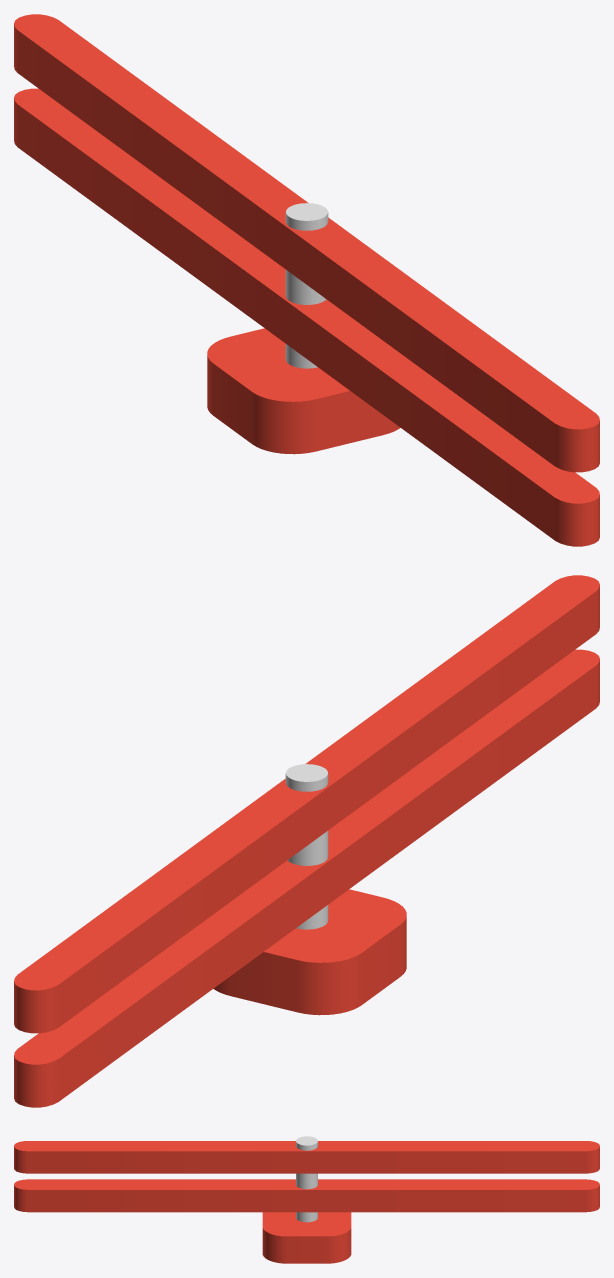
File: Spinner Big.fbx
3 views of the same model, one above another, from view 1: azimuth 30°, elevation 25°; view 2: azimuth 150°, elevation 25°; view 3: azimuth 270°, elevation 25° (orthographic). The views are drawn at different scales.
Parts seen in each view (by area): view 1: Spinner Big.001, Spinner Big.002, Spinner Big; view 2: Spinner Big.001, Spinner Big.002, Spinner Big; view 3: Spinner Big.002, Spinner Big.001, Spinner Big.
Part boxes in pixels (x1,y1,x2,y2): Spinner Big.001: (14,14,599,472); Spinner Big.002: (14,88,599,546); Spinner Big: (207,203,400,454); Spinner Big.001: (14,575,599,1033); Spinner Big.002: (14,649,599,1107); Spinner Big: (213,764,406,1015); Spinner Big.002: (14,1179,599,1212); Spinner Big.001: (14,1141,599,1173); Spinner Big: (262,1136,351,1263).
Size of the model in its own units: 86.11 by 111 by 567.
